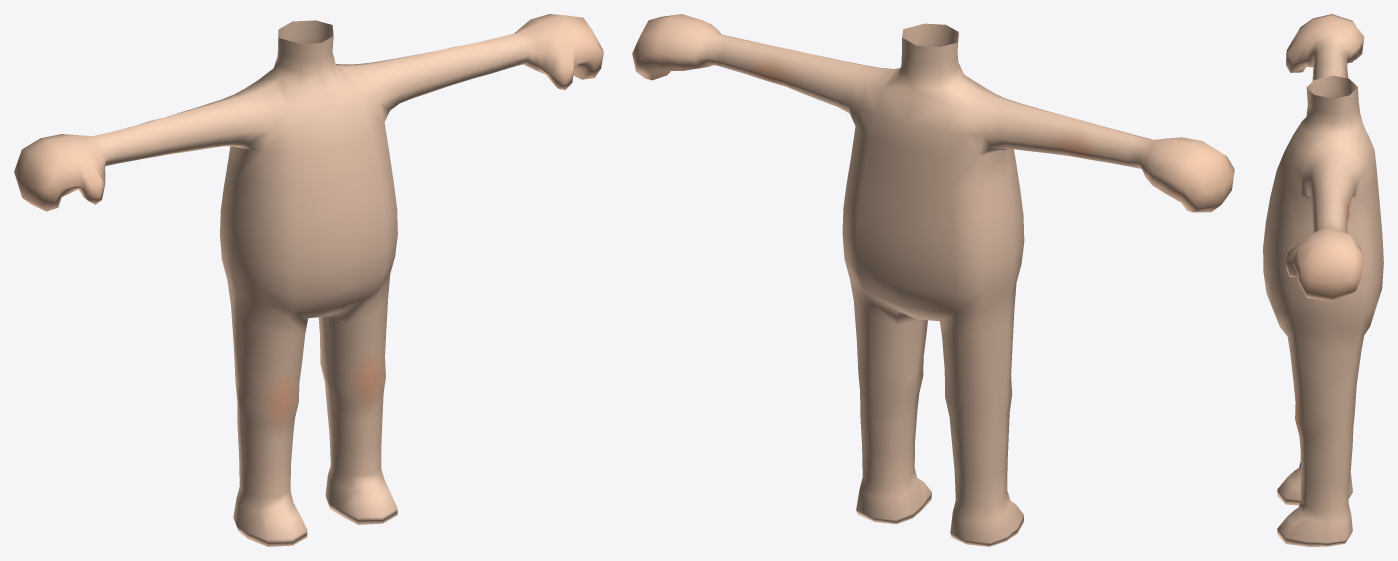
File: Body_1.fbx
The picture shows the model from 3 angles, left to right: view 1: azimuth 30°, elevation 25°; view 2: azimuth 150°, elevation 25°; view 3: azimuth 270°, elevation 25°; orthographic projection. The views are drawn at different scales.
Visible parts, largest first — view 1: Body_1; view 2: Body_1; view 3: Body_1.
Boxes of the visible parts, box(x1,y1,x2,y2) form: Body_1: box(14, 14, 603, 546); Body_1: box(632, 14, 1234, 546); Body_1: box(1263, 14, 1383, 546).
Size of the model in its own units: 130 by 104 by 26.46.
